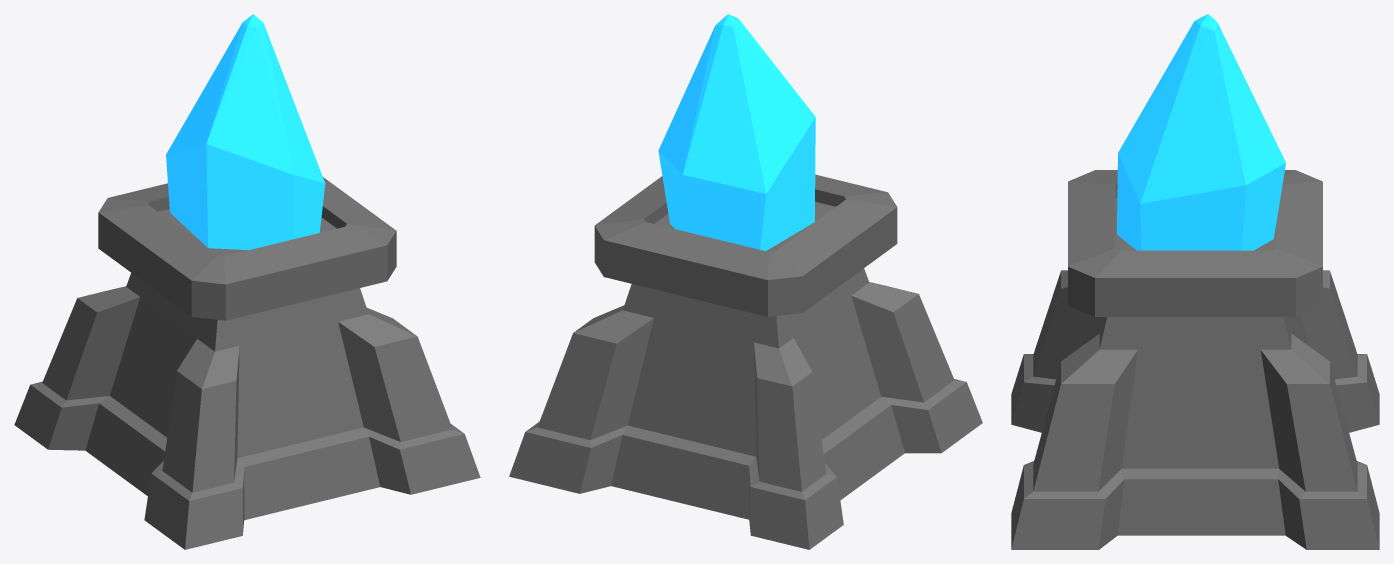
Rendered from SmlMagicTrap_1_Stone.fbx.
3 views of the same model, side by side, from view 1: azimuth 30°, elevation 25°; view 2: azimuth 150°, elevation 25°; view 3: azimuth 270°, elevation 25° (orthographic). The views are drawn at different scales.
Visible parts, largest first — view 1: SmlMagicTrap_1_Stone; view 2: SmlMagicTrap_1_Stone; view 3: SmlMagicTrap_1_Stone.
Part boxes in pixels (box(x1,y1,x2,y2)): SmlMagicTrap_1_Stone: box(14, 14, 480, 549); SmlMagicTrap_1_Stone: box(509, 14, 982, 549); SmlMagicTrap_1_Stone: box(1011, 14, 1379, 549).
Size of the model in its own units: 37.81 by 52.58 by 37.81.
